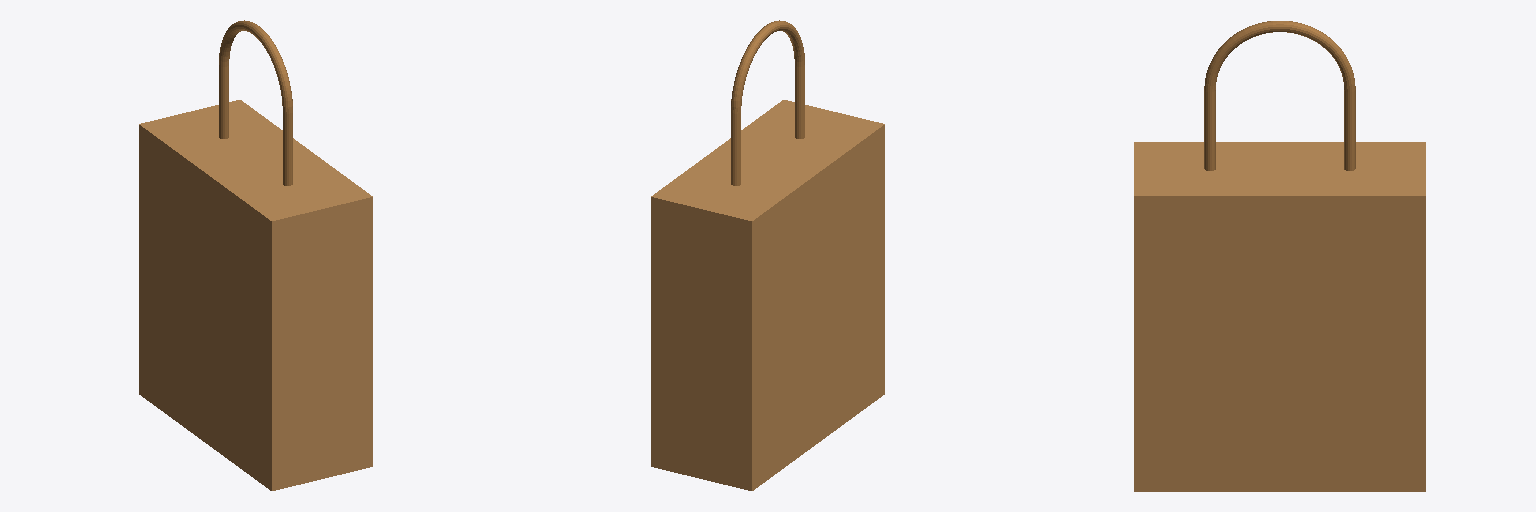
URDF robot description (robocup_bright_paper_bag_with_handle):
<?xml version="1.0"?>
<robot name="robocup_bright_paper_bag_with_handle">

  <!-- Main Bag Body Link (Parkson Paper Bag Original: 28cm H x 25cm W x 11cm D) -->
  <link name="paper_bag_link">
    <!-- Inertial properties for physics simulators (Gazebo) -->
    <inertial>
      <origin xyz="0.0 0.0 0.14" rpy="0 0 0"/>
      <!-- Lightweight kraft paper bag approximation (0.12 kg) -->
      <mass value="0.12"/>
      <inertia ixx="0.0014" ixy="0.0" ixz="0.0" iyy="0.0009" iyz="0.0" izz="0.0007"/>
    </inertial>

    <!-- Visual Body -->
    <visual>
      <origin xyz="0.0 0.0 0.0" rpy="0 0 0"/>
      <geometry>
        <mesh filename="package://so100_description/meshes/parkson_bag_body.stl"/>
      </geometry>
      <material name="parkson_kraft_brown">
        <color rgba="0.76 0.58 0.38 1.0"/>
      </material>
    </visual>

    <!-- Collision Geometry for Bag Body -->
    <collision>
      <origin xyz="0.0 0.0 0.0" rpy="0 0 0"/>
      <geometry>
        <mesh filename="package://so100_description/meshes/parkson_bag_body.stl"/>
      </geometry>
    </collision>
  </link>

  <!-- Semicircular Twisted Paper Rope Handle Link -->
  <link name="bag_handle_link">
    <inertial>
      <origin xyz="0 0 0.0675" rpy="0 0 0"/>
      <mass value="0.01"/>
      <inertia ixx="0.00001" ixy="0.0" ixz="0.0" iyy="0.00001" iyz="0.0" izz="0.00001"/>
    </inertial>

    <!-- Visual Smooth Semicircular Handle -->
    <visual>
      <origin xyz="0 0 0" rpy="0 0 0"/>
      <geometry>
        <mesh filename="package://so100_description/meshes/parkson_handle.stl"/>
      </geometry>
      <material name="kraft_rope">
        <color rgba="0.70 0.52 0.32 1.0"/>
      </material>
    </visual>

    <!-- Collision Geometry -->
    <collision>
      <origin xyz="0 0 0" rpy="0 0 0"/>
      <geometry>
        <mesh filename="package://so100_description/meshes/parkson_handle.stl"/>
      </geometry>
    </collision>
  </link>

  <joint name="bag_handle_joint" type="continuous">
    <parent link="paper_bag_link"/>
    <child link="bag_handle_link"/>
    <!-- Positioned at top rim of the bag (Z=0.28m); pivots around Y axis under gravity -->
    <origin xyz="0.0 0.0 0.28" rpy="0 0 0"/>
    <axis xyz="0 1 0"/>
    <dynamics damping="0.02" friction="0.01"/>
  </joint>

  <!-- Gazebo-specific extensions for physical behavior -->
  <gazebo reference="paper_bag_link">
    <material>Gazebo/Wood</material>
    <mu1>0.6</mu1>
    <mu2>0.6</mu2>
    <kp>100000.0</kp>
    <kd>1.0</kd>
    <maxVel>0.1</maxVel>
    <minDepth>0.001</minDepth>
    <provideFeedback>true</provideFeedback>
  </gazebo>
  <gazebo reference="bag_handle_link">
    <material>Gazebo/Wood</material>
    <mu1>0.8</mu1>
    <mu2>0.8</mu2>
    <kp>100000.0</kp>
    <kd>1.0</kd>
  </gazebo>

</robot>

--- What the picture shows (computed from the rendered views, not written in the file) ---
The picture shows the robot from 3 angles, left to right: view 1: azimuth 30°, elevation 25°; view 2: azimuth 150°, elevation 25°; view 3: azimuth 270°, elevation 25°; orthographic projection.
Model robocup_bright_paper_bag_with_handle with 2 links and 1 joints (1 continuous), rooted at paper_bag_link, posed all joints at 0.
Links seen in each view (by area): view 1: paper_bag_link, bag_handle_link; view 2: paper_bag_link, bag_handle_link; view 3: paper_bag_link, bag_handle_link.
Boxes of the visible links, bbox=[...] form: paper_bag_link: bbox=[139, 100, 372, 490]; bag_handle_link: bbox=[219, 20, 292, 185]; paper_bag_link: bbox=[651, 100, 884, 490]; bag_handle_link: bbox=[731, 20, 804, 185]; paper_bag_link: bbox=[1134, 142, 1425, 491]; bag_handle_link: bbox=[1204, 21, 1355, 170].
Size in the robot's own frame: 0.11 by 0.25 by 0.42 metres.
Meshes: 2 distinct files referenced, 2 mesh visuals loaded (2 binary STL).
